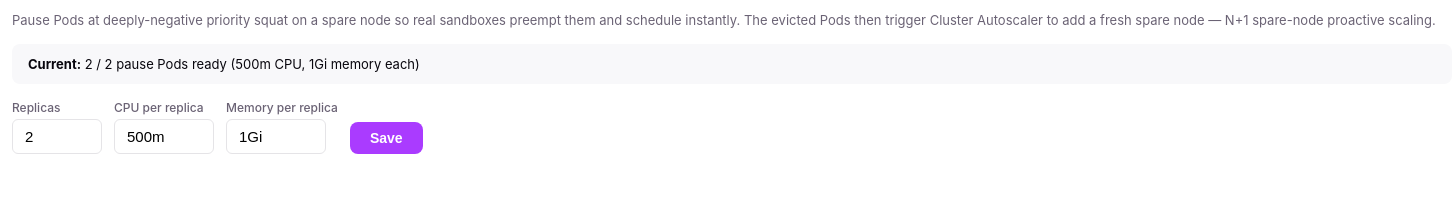
Test case: HeadroomEditor › saves edited values and shows a confirmation message
Replace the text in the number field with test id "headroom-replicas" with "5" at {"x": 57, "y": 136}, box [12, 119, 102, 154]
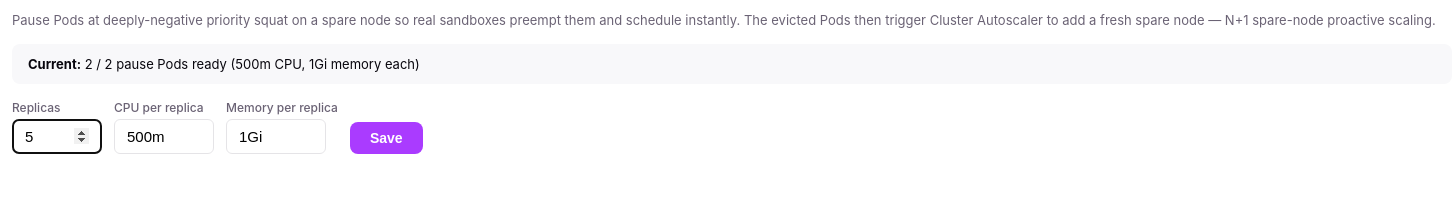
Type "750m" into the field with test id "headroom-cpu" at {"x": 164, "y": 136}, box [114, 119, 214, 154]
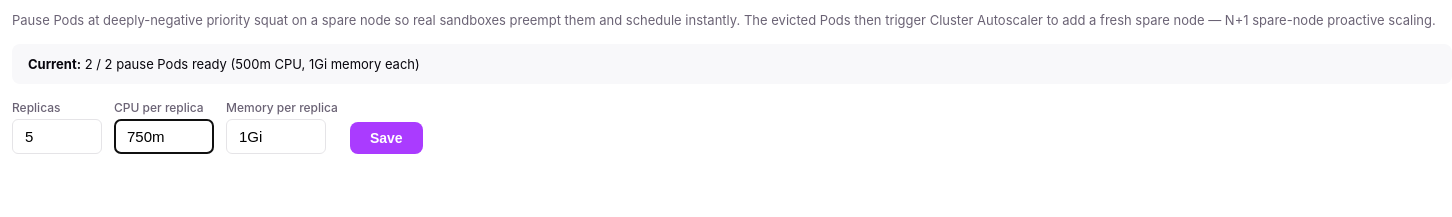
Click the button with test id "headroom-save" at {"x": 386, "y": 138}, box [350, 122, 423, 154]
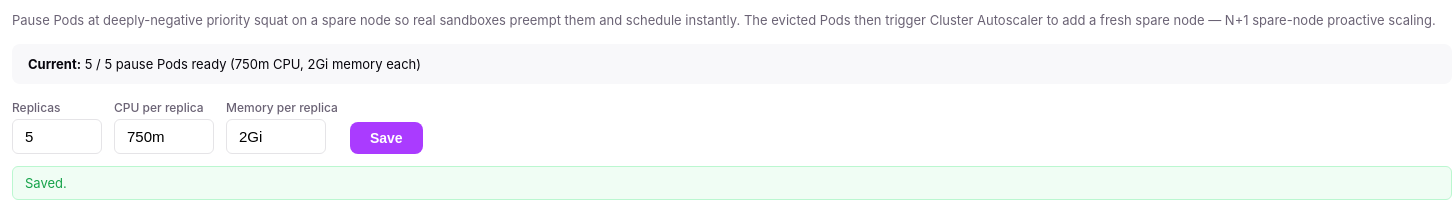
Expected: the text with test id "headroom-message" reads "Saved.", [25, 175, 67, 191]
